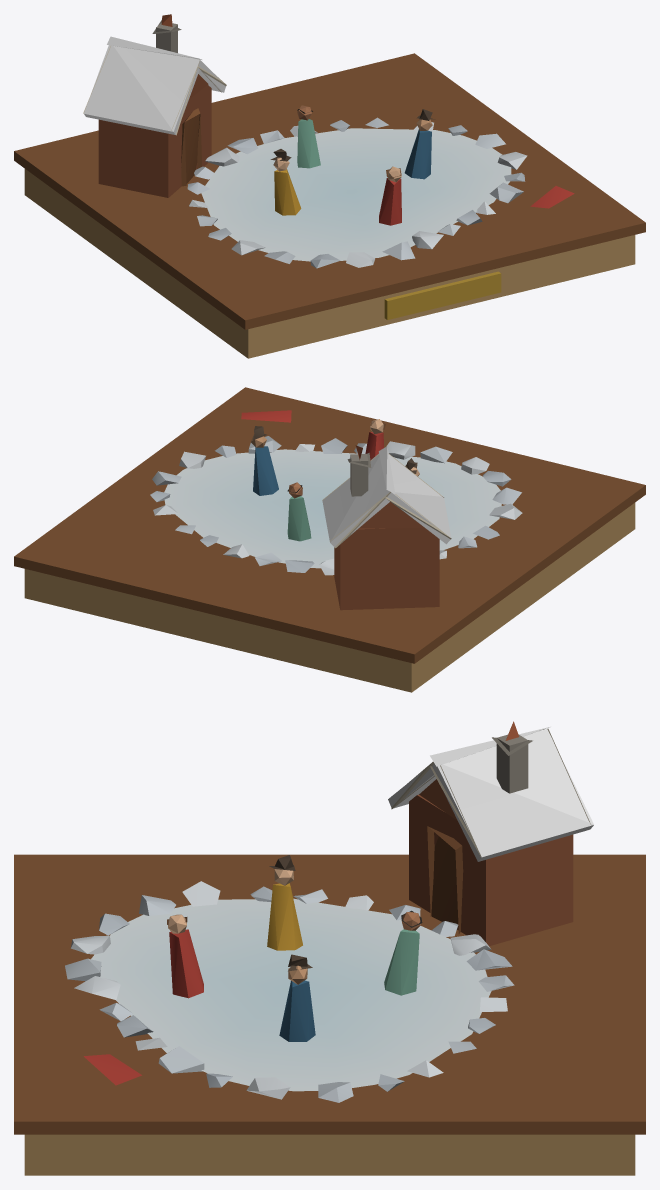
Rendered from skating_pond_souvenir.glb.
3 views of the same model, one above another, from view 1: azimuth 30°, elevation 25°; view 2: azimuth 150°, elevation 25°; view 3: azimuth 270°, elevation 25° (orthographic). The views are drawn at different scales.
Visible parts, largest first — view 1: decor-skating_pond_souvenir; view 2: decor-skating_pond_souvenir; view 3: decor-skating_pond_souvenir.
Boxes of the visible parts, <box> form: decor-skating_pond_souvenir: <box>14,14,645,358</box>; decor-skating_pond_souvenir: <box>14,387,645,692</box>; decor-skating_pond_souvenir: <box>14,721,645,1175</box>.
Bounding box in the file's own units: 1.76 × 0.795 × 1.76.
